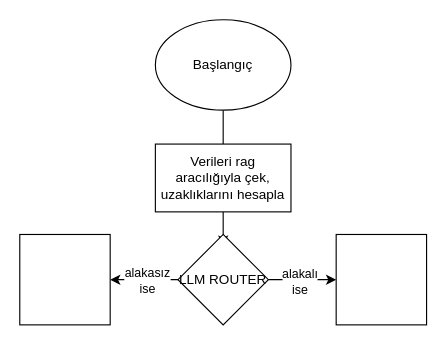
This 446x345 diagram has some shape labels left out. Here are the shapes that lost their labels. From the top down, the centre of each, then its label:
At point (64, 279): "Cevabı direkt döndür".
At point (381, 279): "Tavily search ile internette araştır".
